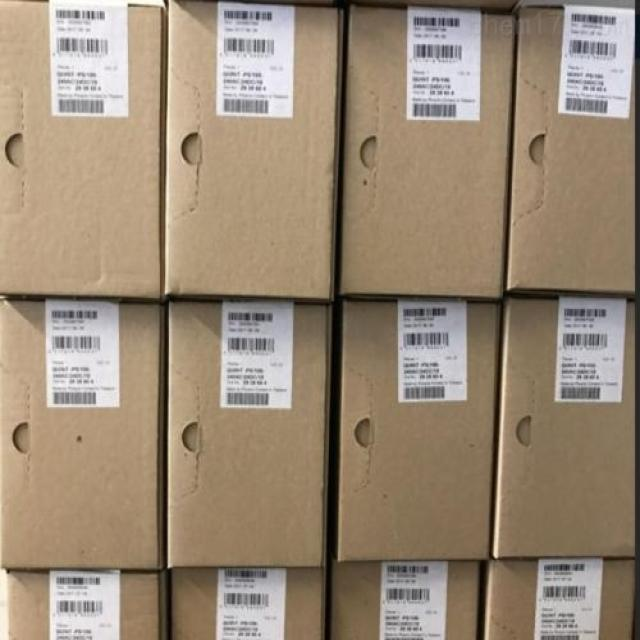box: (162, 3, 347, 301), (339, 3, 521, 301), (2, 2, 166, 302), (325, 301, 506, 562), (166, 299, 340, 570), (0, 295, 166, 570), (506, 1, 639, 297), (492, 297, 639, 557), (483, 557, 639, 638), (327, 557, 481, 638), (5, 570, 171, 638), (171, 567, 330, 637)
